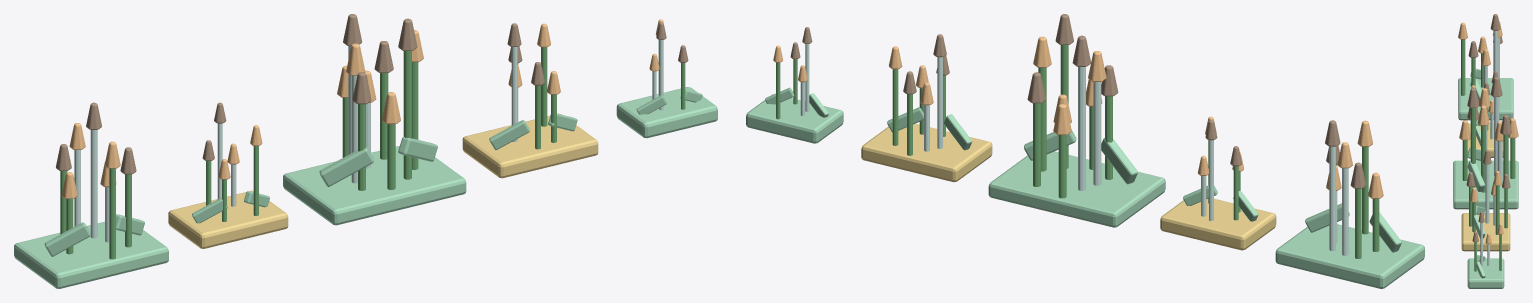
Rendered from 11-coast-vegetation.glb.
The picture shows the model from 3 angles, left to right: view 1: azimuth 30°, elevation 25°; view 2: azimuth 150°, elevation 25°; view 3: azimuth 270°, elevation 25°; orthographic projection. The views are drawn at different scales.
Parts seen in each view (by area): view 1: Reeds_2_Base, Reeds_0_Base, Reeds_3_Base, Reeds_1_Base, Reeds_4_Base, Reeds_2_Leaf_0, Reeds_2_Stem_7, Reeds_0_Stem_3, Reeds_0_Leaf_0, Reeds_2_Leaf_1, Reeds_0_Stem_2, Reeds_2_Stem_2 (+15 smaller); view 2: Reeds_2_Base, Reeds_0_Base, Reeds_3_Base, Reeds_1_Base, Reeds_4_Base, Reeds_2_Stem_3, Reeds_2_Stem_6, Reeds_2_Leaf_0, Reeds_0_Stem_3, Reeds_2_Stem_5, Reeds_0_Stem_6, Reeds_2_Stem_2 (+16 smaller); view 3: Reeds_2_Base, Reeds_3_Base, Reeds_0_Base, Reeds_4_Base, Reeds_1_Base, Reeds_2_Stem_7, Reeds_2_Stem_3, Reeds_2_Stem_2, Reeds_3_Stem_3, Reeds_0_Stem_2, Reeds_2_Leaf_1, Reeds_2_Stem_4 (+50 smaller).
Part boxes in pixels (x1,y1,x2,y2): Reeds_2_Base: (283, 146, 466, 225); Reeds_0_Base: (14, 221, 168, 288); Reeds_3_Base: (462, 113, 598, 178); Reeds_1_Base: (168, 190, 288, 248); Reeds_4_Base: (616, 87, 717, 138); Reeds_2_Leaf_0: (319, 147, 373, 186); Reeds_2_Stem_7: (403, 51, 411, 179); Reeds_0_Stem_3: (90, 130, 97, 238); Reeds_0_Leaf_0: (44, 222, 90, 256); Reeds_2_Leaf_1: (398, 137, 437, 161); Reeds_0_Stem_2: (109, 168, 115, 259); Reeds_2_Stem_2: (412, 62, 418, 169); Reeds_2_Base: (988, 151, 1165, 227); Reeds_0_Base: (1275, 224, 1424, 288); Reeds_3_Base: (861, 123, 992, 182); Reeds_1_Base: (1160, 198, 1276, 250); Reeds_4_Base: (746, 94, 843, 143); Reeds_2_Stem_3: (1078, 67, 1085, 190); Reeds_2_Stem_6: (1093, 82, 1101, 185); Reeds_2_Leaf_0: (1101, 138, 1137, 184); Reeds_0_Stem_3: (1329, 146, 1335, 251); Reeds_2_Stem_5: (1033, 103, 1040, 186); Reeds_0_Stem_6: (1342, 168, 1348, 255); Reeds_2_Stem_2: (1038, 67, 1046, 171); Reeds_2_Base: (1453, 160, 1518, 209); Reeds_3_Base: (1461, 213, 1510, 251); Reeds_0_Base: (1458, 78, 1513, 120); Reeds_4_Base: (1467, 258, 1504, 288); Reeds_1_Base: (1467, 123, 1503, 157); Reeds_2_Stem_7: (1470, 108, 1475, 187); Reeds_2_Stem_3: (1494, 97, 1499, 176); Reeds_2_Stem_2: (1481, 125, 1486, 192); Reeds_3_Stem_3: (1485, 164, 1489, 223); Reeds_0_Stem_2: (1461, 39, 1465, 95); Reeds_2_Leaf_1: (1467, 160, 1484, 191); Reeds_2_Stem_4: (1462, 140, 1467, 180).
Bounding box in the file's own units: 7.1 × 1.76 × 0.9676.
